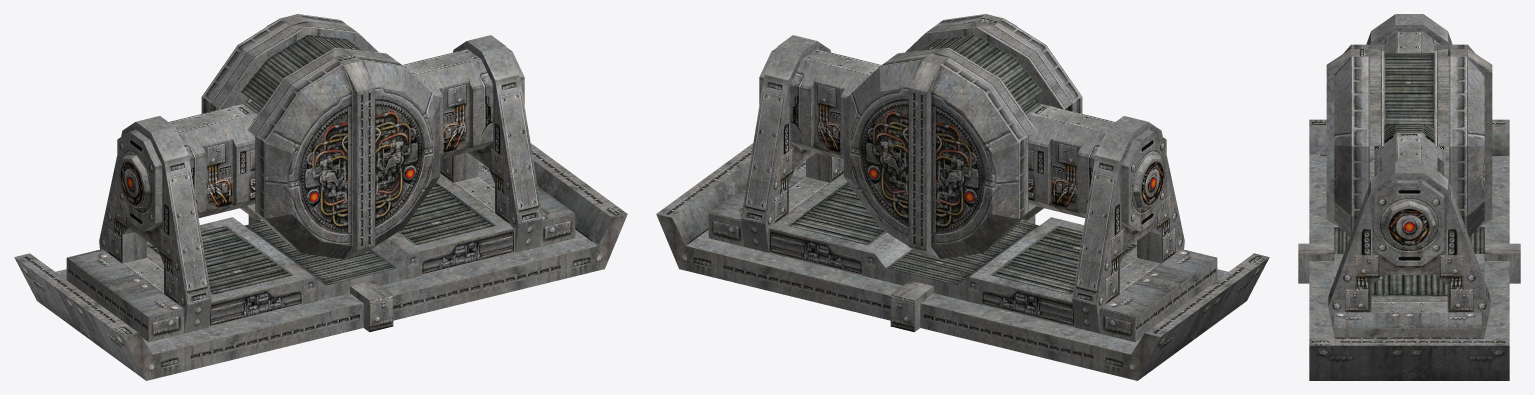
Rendered from bunker_mine_device_s01_l1.fbx.
3 renders of one model, left to right at view 1: azimuth 30°, elevation 25°; view 2: azimuth 150°, elevation 25°; view 3: azimuth 270°, elevation 25°, orthographic. The views are drawn at different scales.
Visible parts, largest first — view 1: mesh_node; view 2: mesh_node; view 3: mesh_node.
Part boxes in pixels (left/top/right/bottom): mesh_node: left=14, top=14, right=627, bottom=380; mesh_node: left=656, top=14, right=1269, bottom=380; mesh_node: left=1298, top=14, right=1520, bottom=380.
Size of the model in its own units: 6 by 2.81 by 2.49.
2 materials, 2 textured.
